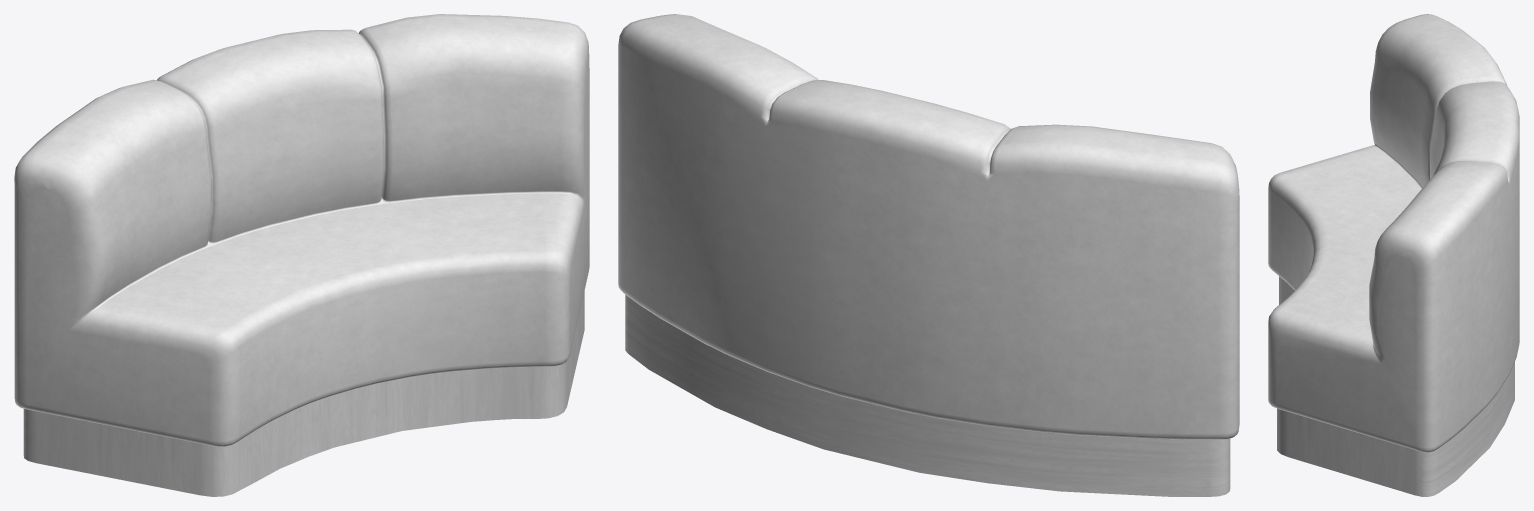
File: Sofa01_1.FBX
3 views of the same model, side by side, from view 1: azimuth 30°, elevation 25°; view 2: azimuth 150°, elevation 25°; view 3: azimuth 270°, elevation 25° (orthographic). The views are drawn at different scales.
Parts seen in each view (by area): view 1: Sofa01_1; view 2: Sofa01_1; view 3: Sofa01_1.
Part boxes in pixels (x1,y1,x2,y2): Sofa01_1: (14, 14, 589, 496); Sofa01_1: (618, 14, 1239, 496); Sofa01_1: (1268, 14, 1519, 496).
Bounding box in the file's own units: 230 × 122 × 104.
